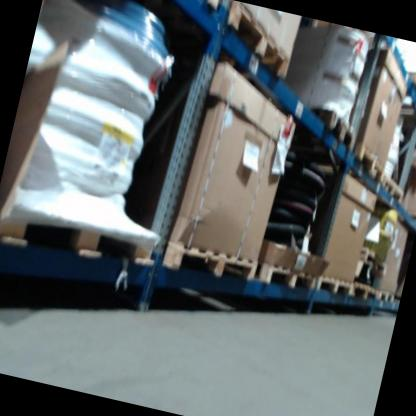pallet: (0, 200, 160, 282), (213, 0, 302, 83), (159, 240, 259, 293), (309, 103, 362, 151), (255, 258, 319, 297), (346, 140, 391, 186), (315, 272, 354, 301), (377, 175, 408, 206), (348, 280, 378, 307), (401, 71, 416, 108), (375, 289, 396, 304)
